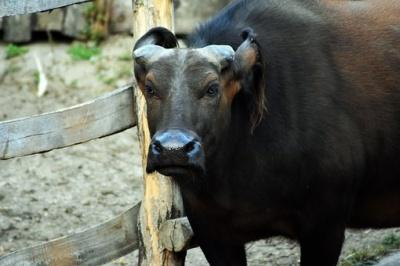buffalo: (134, 0, 399, 265)
